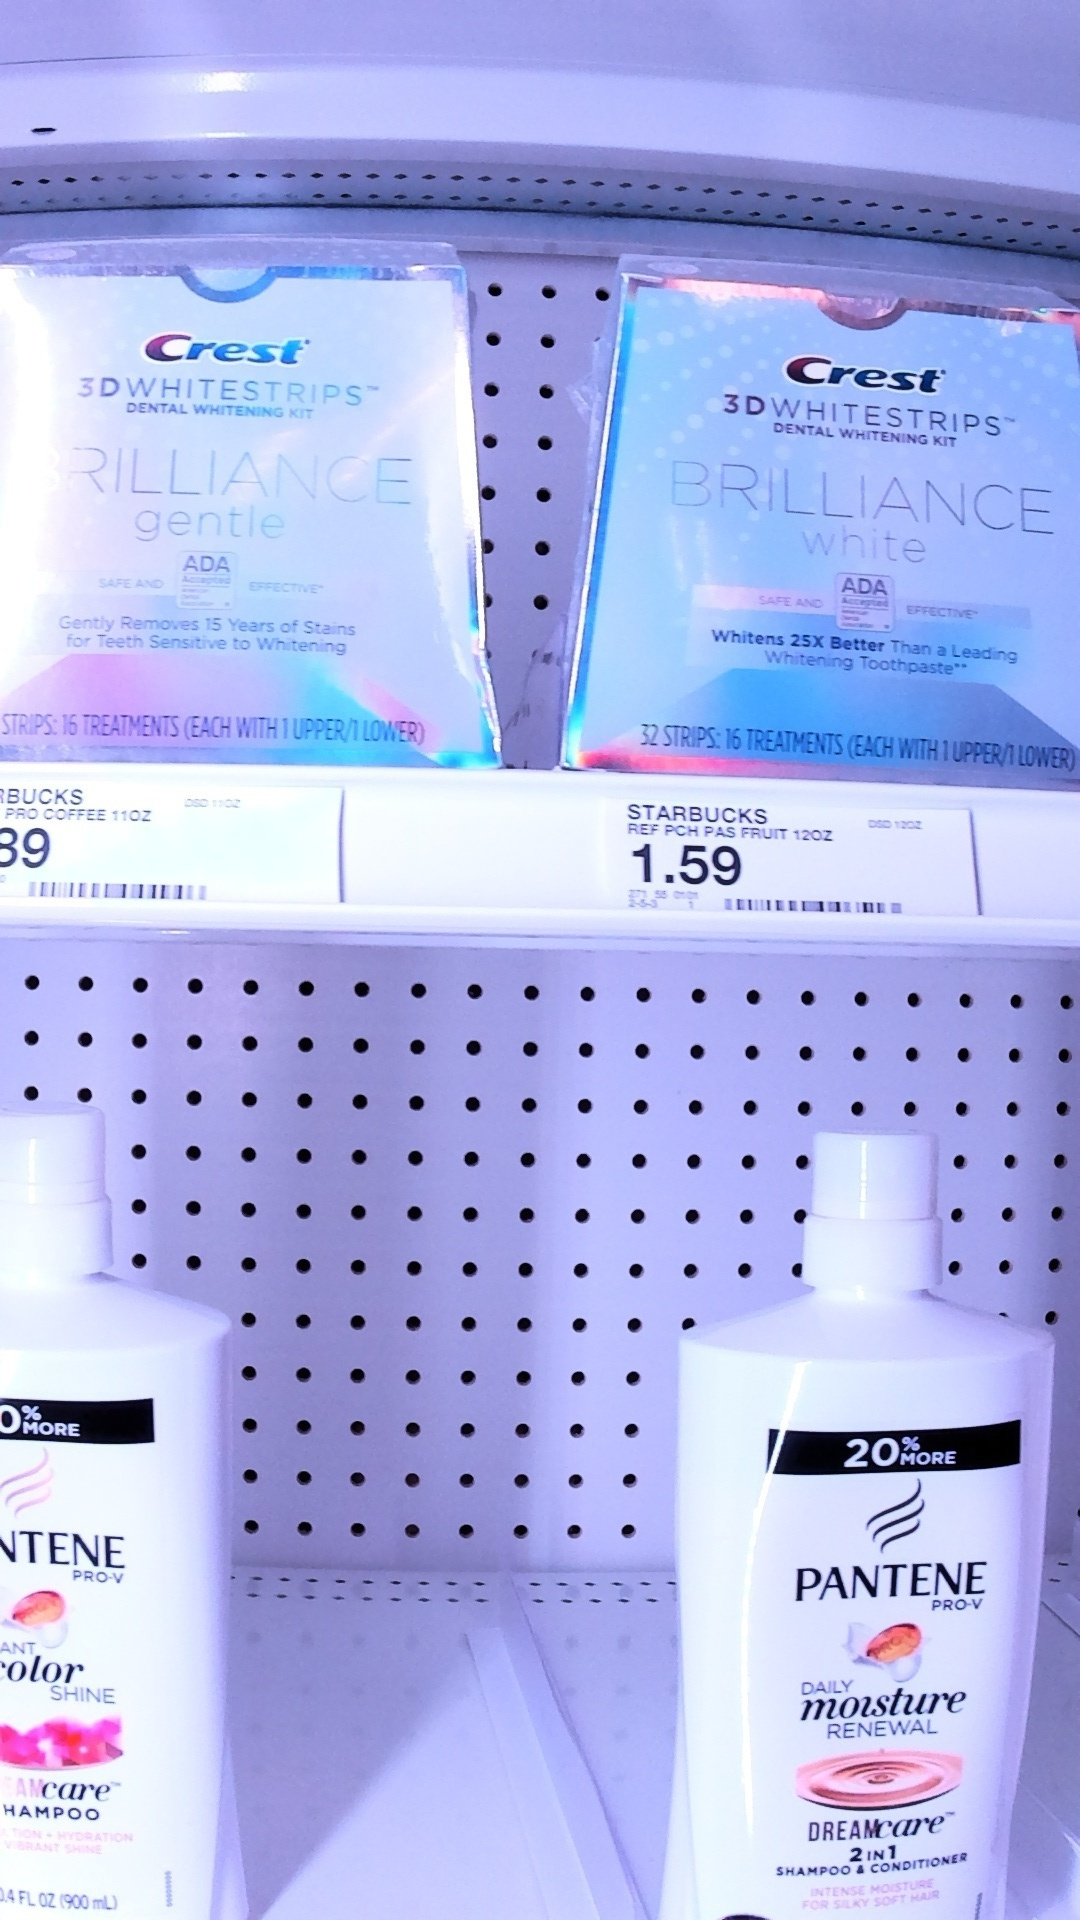ptag: (604, 782, 1006, 938), (1, 766, 345, 928)
